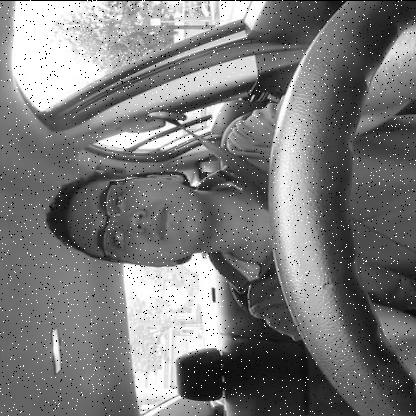seatbelt: (38, 109, 416, 270)
